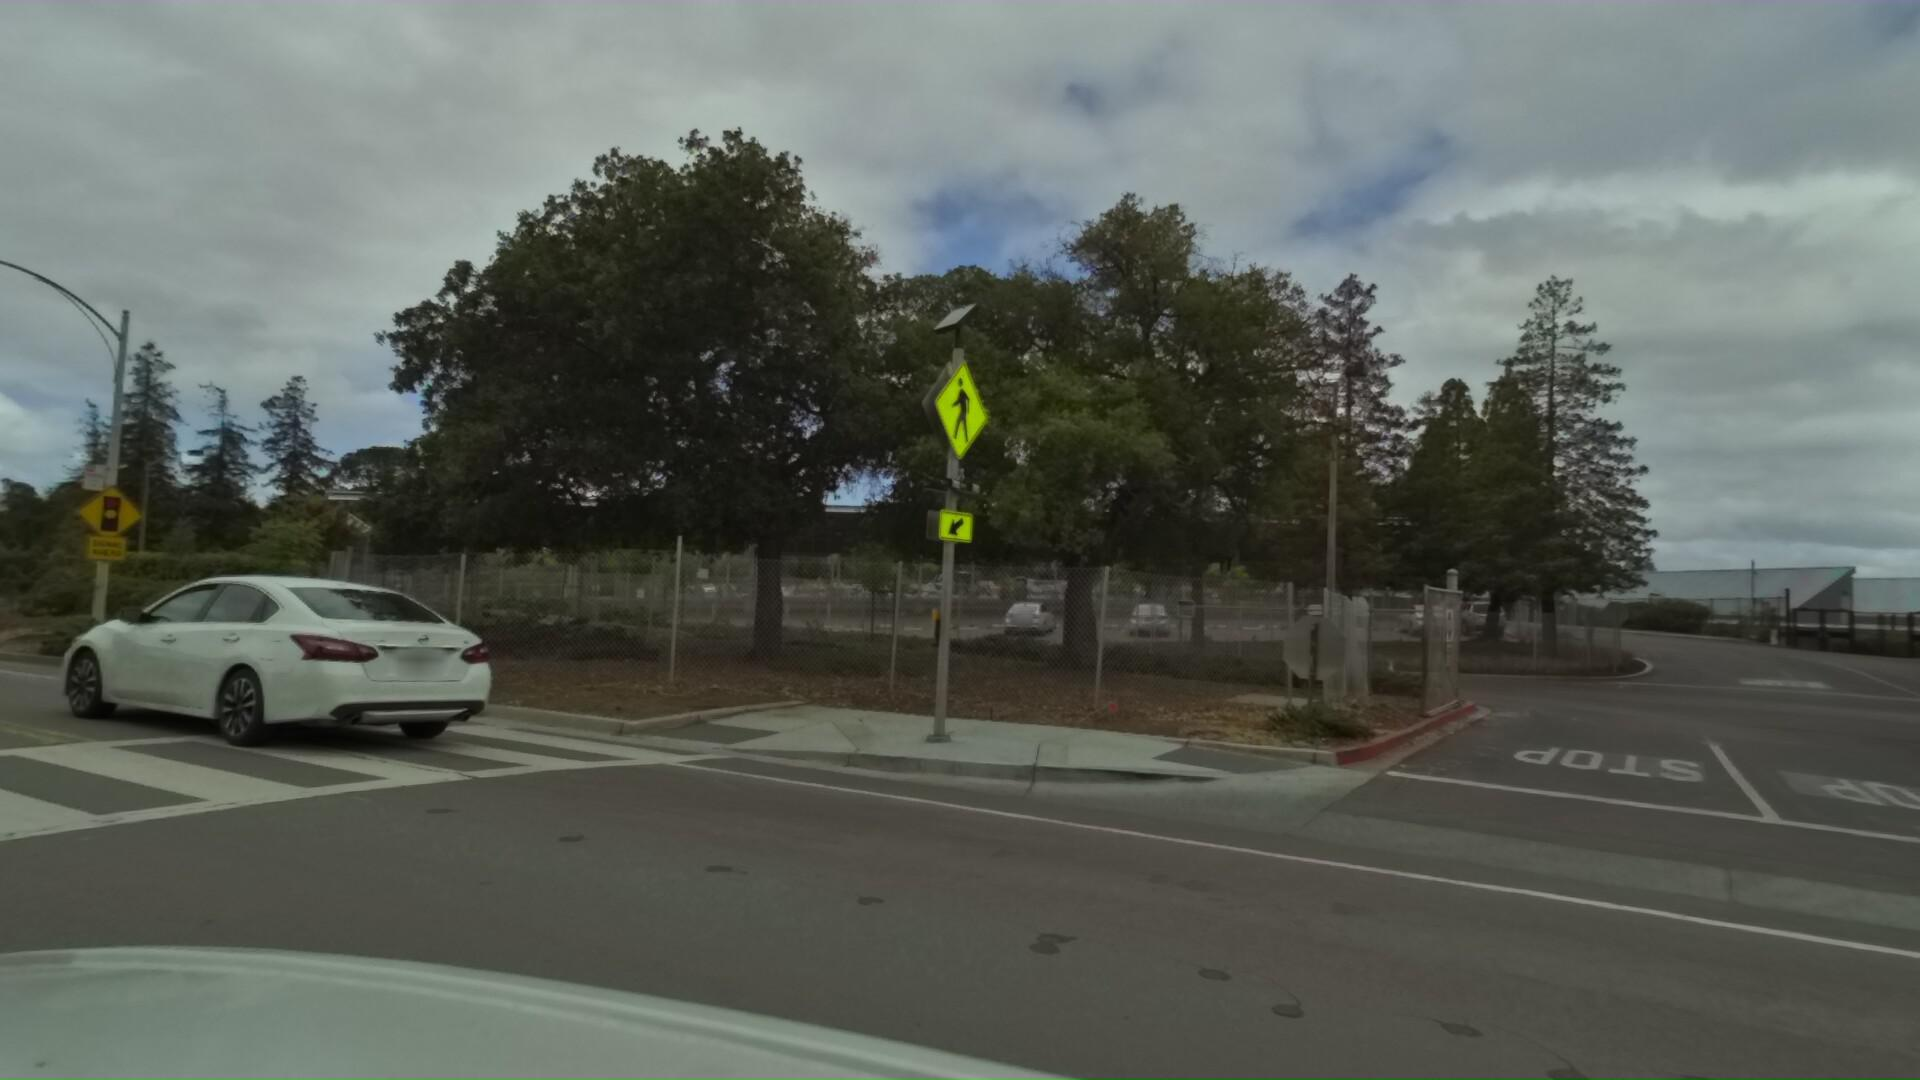car: (8, 562, 455, 760)
